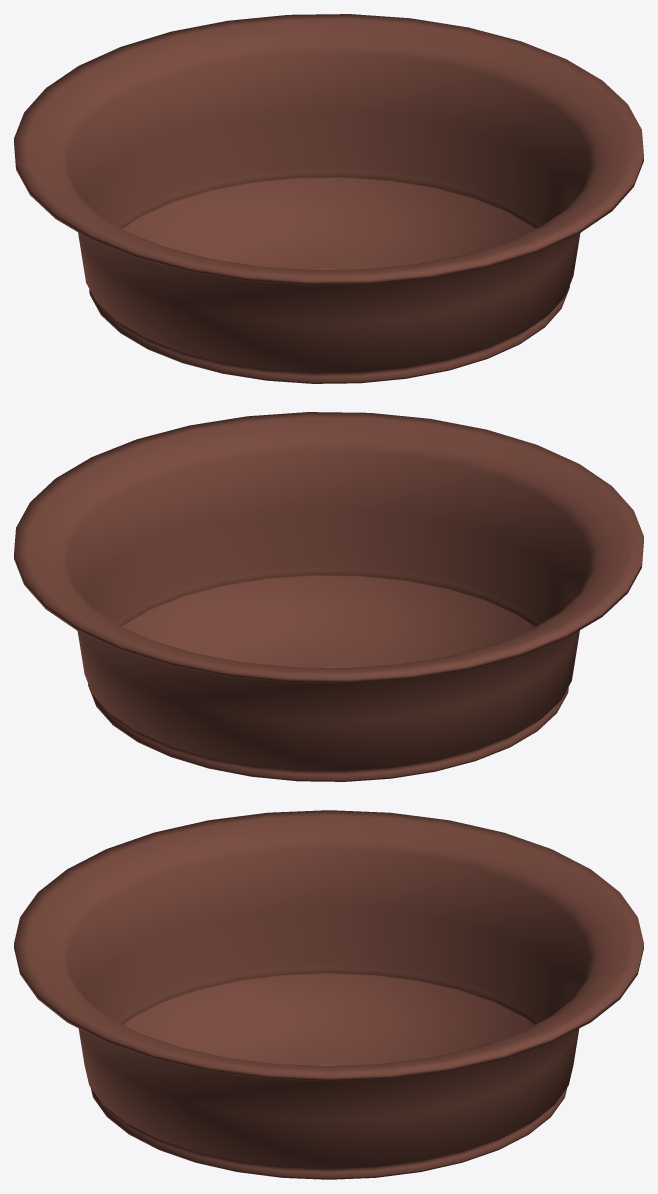
File: Pot2.fbx
3 views of the same model, one above another, from view 1: azimuth 30°, elevation 25°; view 2: azimuth 150°, elevation 25°; view 3: azimuth 270°, elevation 25° (orthographic).
Parts seen in each view (by area): view 1: PotCircle1; view 2: PotCircle1; view 3: PotCircle1.
Part boxes in pixels (box(x1,y1,x2,y2)): PotCircle1: box(14, 14, 643, 383); PotCircle1: box(14, 412, 643, 781); PotCircle1: box(14, 810, 643, 1179).
Size of the model in its own units: 220 by 55.93 by 220.
Materials: 3 (3 with a texture image).
